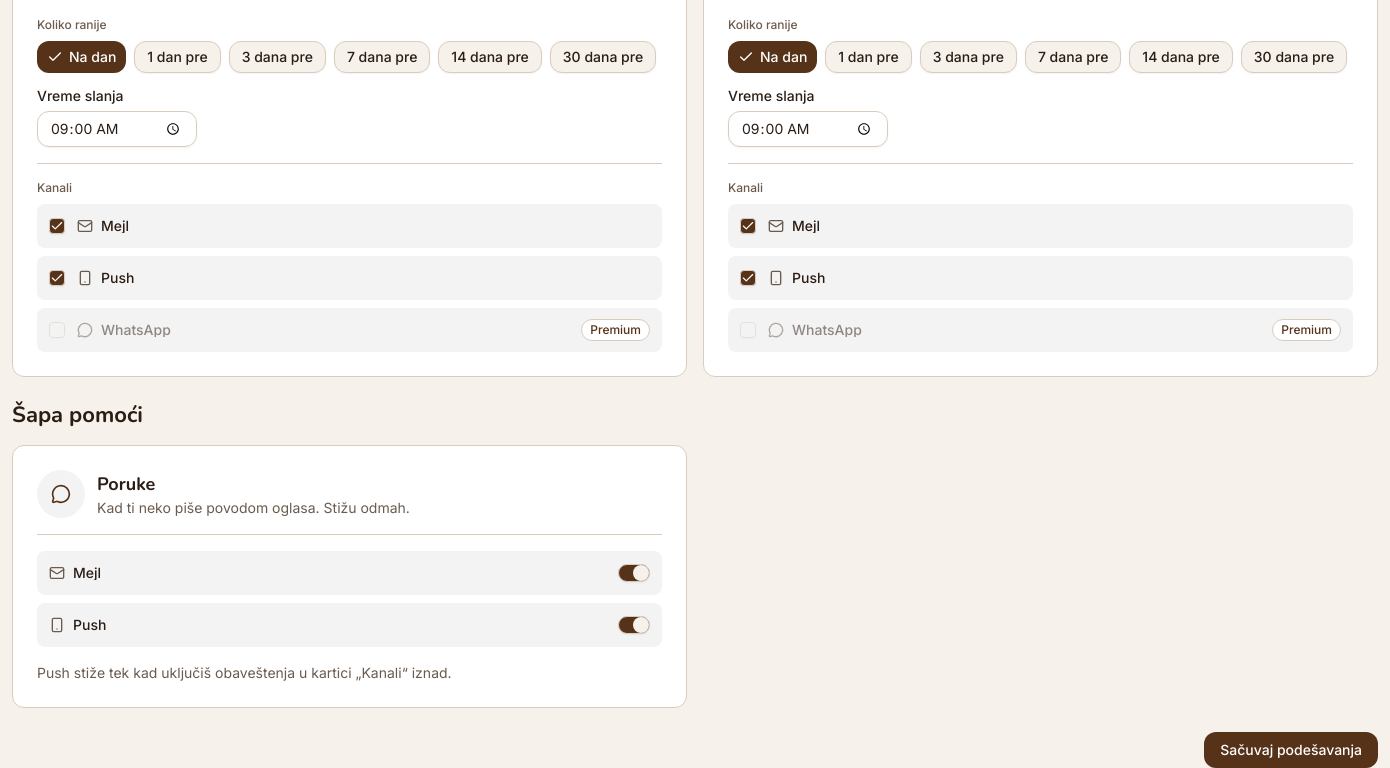
Scenario: S12 Poruke card › FR-69 #2: switching email off saves {push} through EP-28 type message
The width and height of the screenshot is (1390, 768).
(page scrolled)
Click the 1st switch named "Mejl". click: [634, 573]
box: [618,564,650,582]
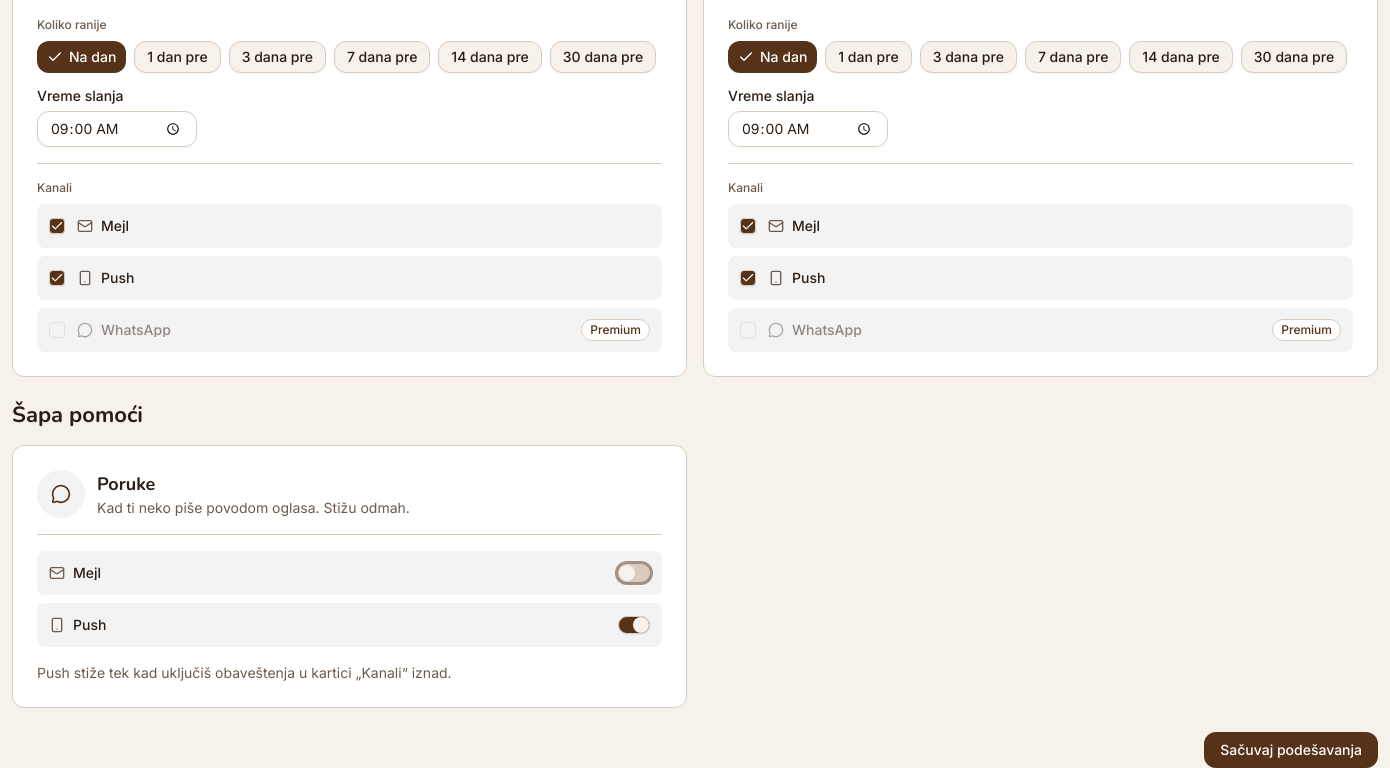
Click the button "Sačuvaj podešavanja". click: [1291, 750]
box: [1204,732,1378,767]
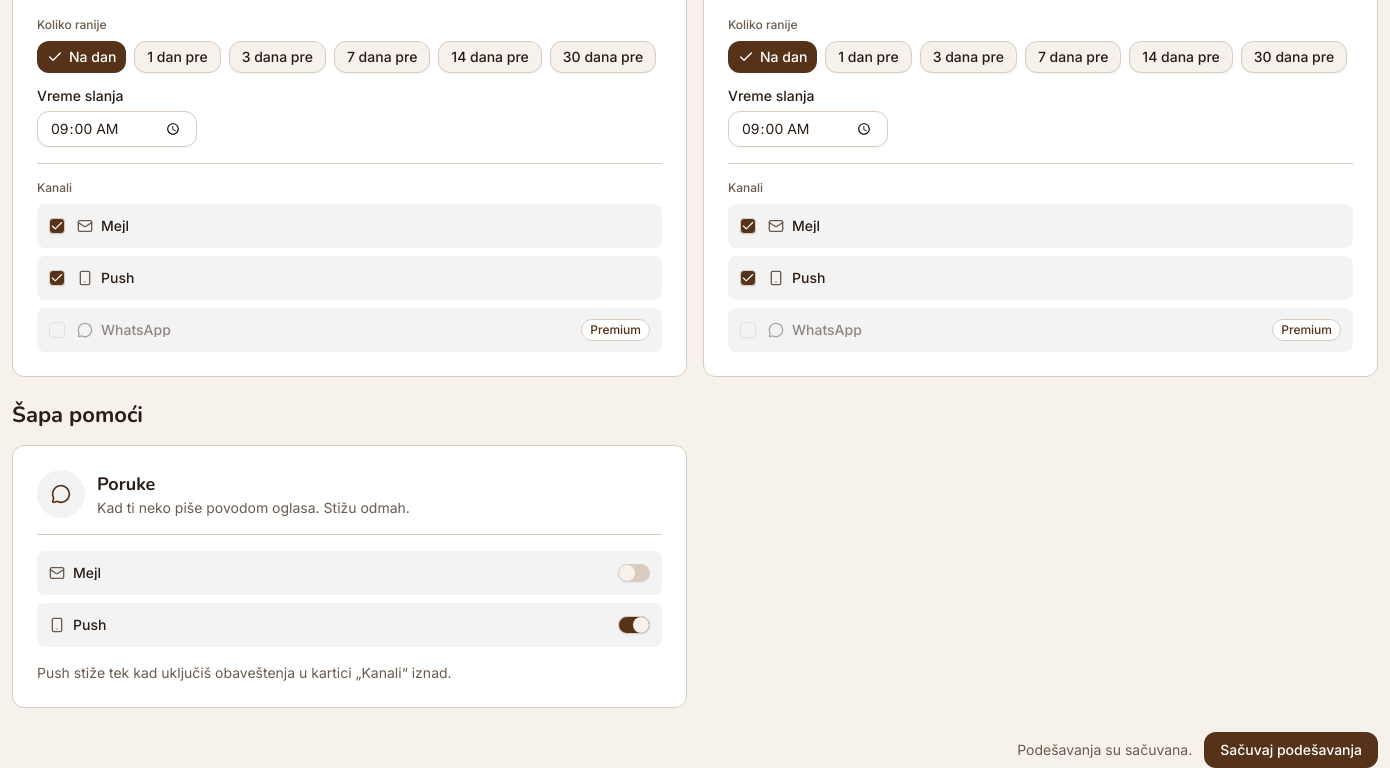
Expected: the message reads "Podešavanja su sačuvana.", [1017,741,1192,758]
